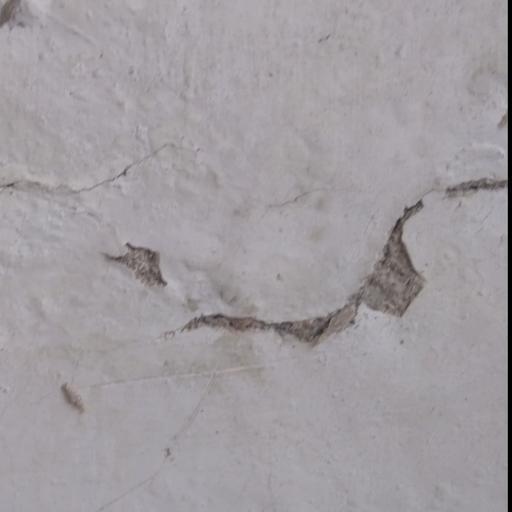peeling: (166, 170, 512, 368), (0, 132, 186, 210), (86, 223, 186, 298), (45, 372, 106, 430), (0, 0, 52, 54)
